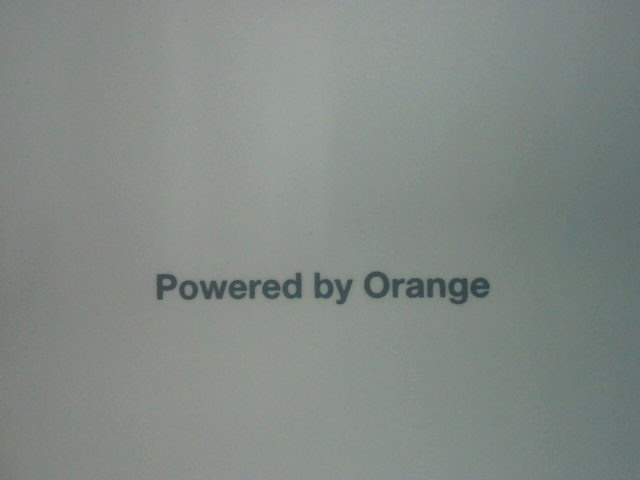AS_PowerByOrange: (145, 259, 504, 320)
